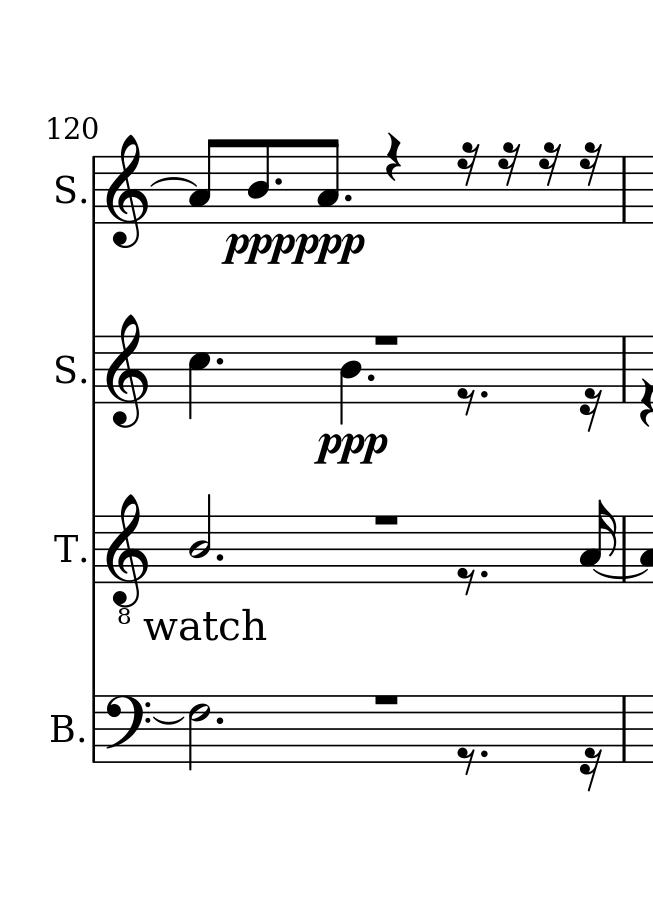0: (78, 114, 100, 141)
1: (47, 115, 60, 141)
16_3: (579, 499, 618, 585)
2: (61, 115, 80, 142)
2_4: (187, 488, 213, 584)
2_6: (186, 693, 214, 774)
4_5: (187, 333, 211, 422)
8_3: (188, 137, 222, 224), (315, 136, 340, 224)
8_4: (245, 137, 272, 225), (338, 330, 362, 428)
Fclef: (105, 694, 155, 764)
Gclef: (105, 133, 152, 250), (105, 314, 152, 429)
Lower_Gclef: (104, 493, 151, 626)
Rests1: (370, 328, 404, 350), (370, 690, 403, 709), (370, 510, 404, 528)
Rests16: (579, 141, 605, 189), (577, 386, 603, 432), (497, 141, 521, 187), (538, 142, 563, 185), (457, 140, 480, 185), (581, 743, 602, 791)
Rests4: (384, 131, 404, 186), (635, 378, 653, 431)
Rests8: (454, 386, 480, 418), (456, 566, 477, 598), (456, 745, 477, 775)
Single_barline: (616, 517, 633, 582), (87, 516, 103, 584), (616, 695, 632, 761), (87, 156, 102, 226), (616, 157, 631, 223), (617, 337, 632, 400), (87, 696, 101, 762), (88, 336, 102, 402)
Slur: (594, 567, 647, 579), (150, 177, 198, 187), (150, 715, 183, 726)
dot: (363, 370, 377, 385), (213, 714, 226, 728), (213, 549, 226, 563), (213, 354, 225, 368), (342, 190, 354, 204), (273, 175, 283, 189), (478, 389, 489, 399)
ppp: (310, 431, 393, 476), (220, 231, 295, 269), (295, 232, 368, 269)
